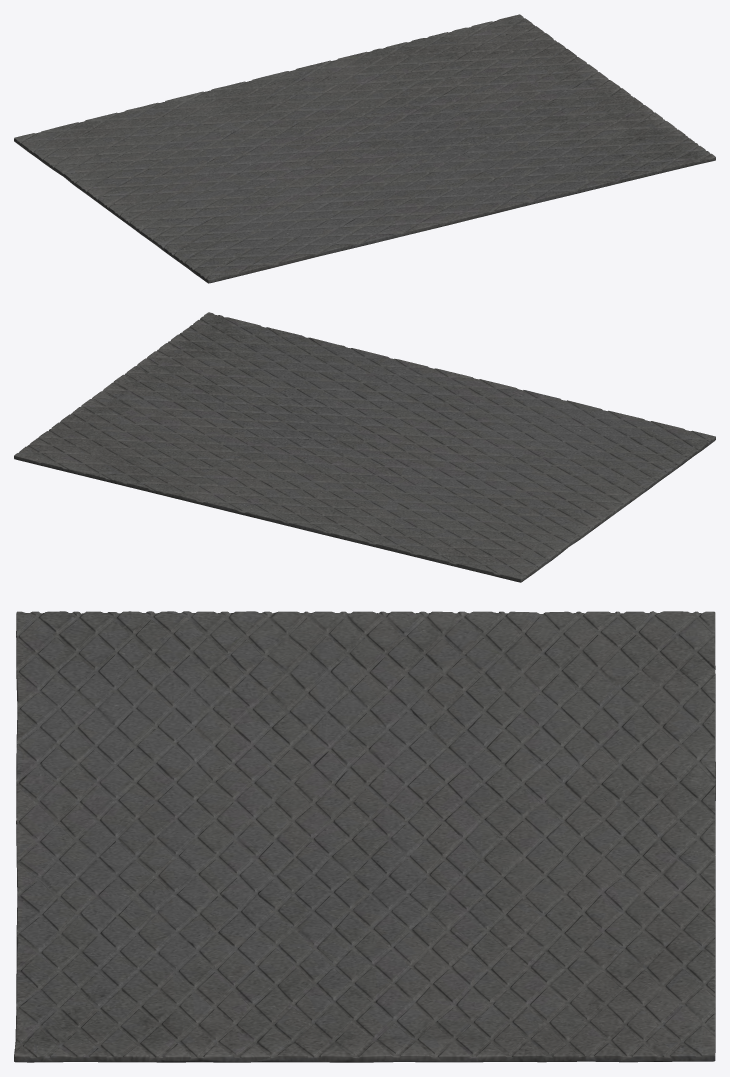
Rendered from osterild_wycieraczka_wewnetrzna_30495207.glb.
3 views of the same model, one above another, from view 1: azimuth 30°, elevation 25°; view 2: azimuth 150°, elevation 25°; view 3: azimuth 270°, elevation 25° (orthographic). The views are drawn at different scales.
Visible parts, largest first — view 1: osterild_wycieraczka_wewnetrzna_30495207; view 2: osterild_wycieraczka_wewnetrzna_30495207; view 3: osterild_wycieraczka_wewnetrzna_30495207.
Boxes of the visible parts, x1,y1,x2,y2 form: osterild_wycieraczka_wewnetrzna_30495207: [14, 14, 715, 283]; osterild_wycieraczka_wewnetrzna_30495207: [14, 312, 715, 582]; osterild_wycieraczka_wewnetrzna_30495207: [14, 611, 715, 1062].
Bounding box in the file's own units: 0.9 × 0.00683 × 0.5999.
Materials: 1 (1 with a texture image).
